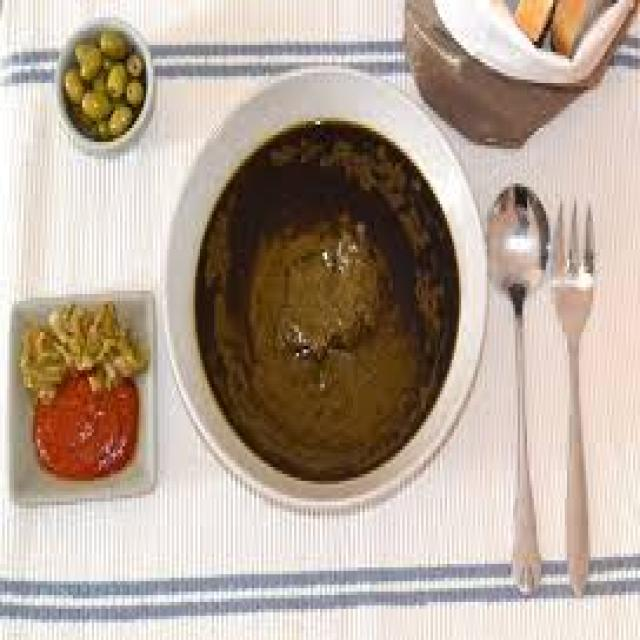Melloukhia: (199, 100, 454, 482)
